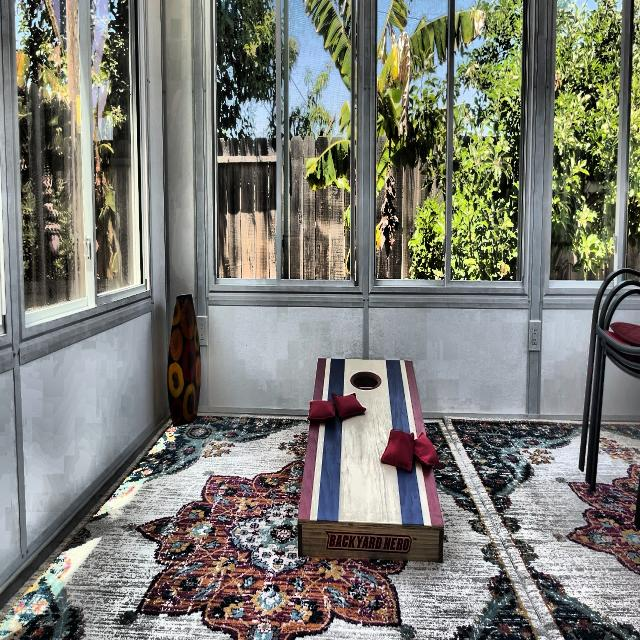board: (311, 358, 423, 524)
hole: (350, 369, 382, 392)
red-bean-bag: (380, 428, 414, 472), (412, 431, 441, 469), (332, 392, 367, 419), (307, 399, 336, 421)
